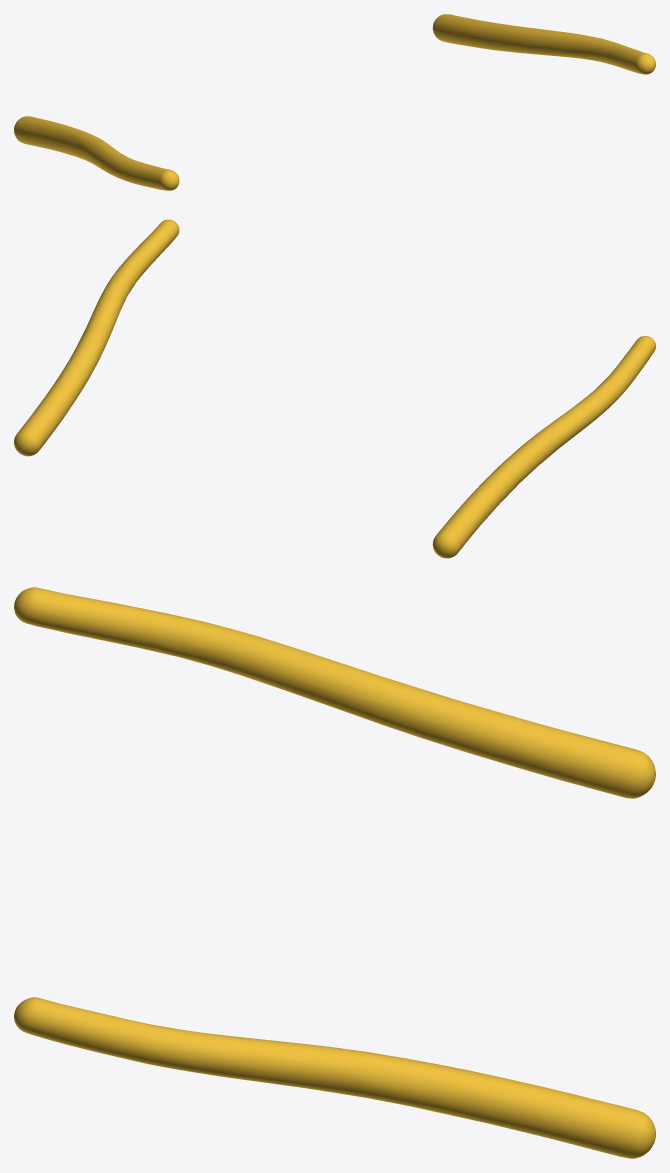
The model's file is ophthalmic.glb.
3 renders of one model, top to bottom at view 1: azimuth 30°, elevation 25°; view 2: azimuth 150°, elevation 25°; view 3: azimuth 270°, elevation 25°, orthographic. The views are drawn at different scales.
Visible parts, largest first — view 1: grp1; view 2: grp1; view 3: grp1.
Boxes of the visible parts, x1,y1,x2,y2 form: grp1: [14, 14, 655, 190]; grp1: [14, 219, 655, 558]; grp1: [14, 587, 655, 1158].
Size of the model in its own units: 0.0434 by 0.00857 by 0.0273.
